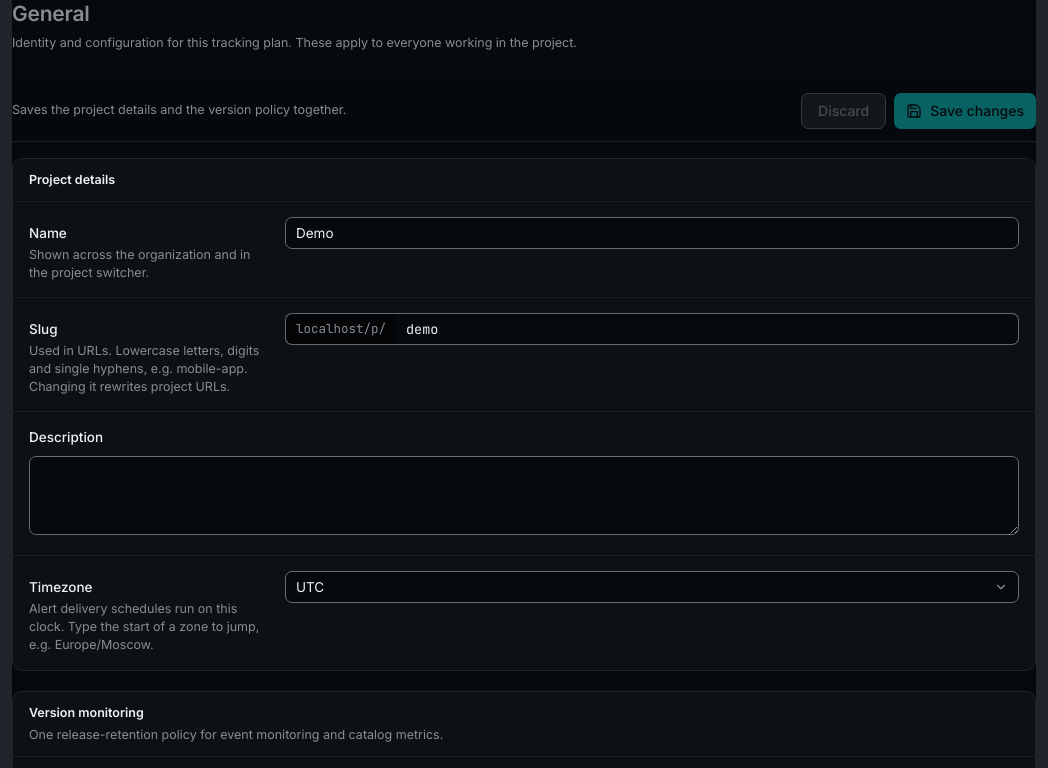
Scenario: ProjectGeneralSection › marks a bad slug and a bad release count as errors, and says the form is edited
Step 1. Replace the text in the field labelled "Slug" with "Bad Slug" → x=708, y=329, box [396, 313, 1019, 345]
(page scrolled)
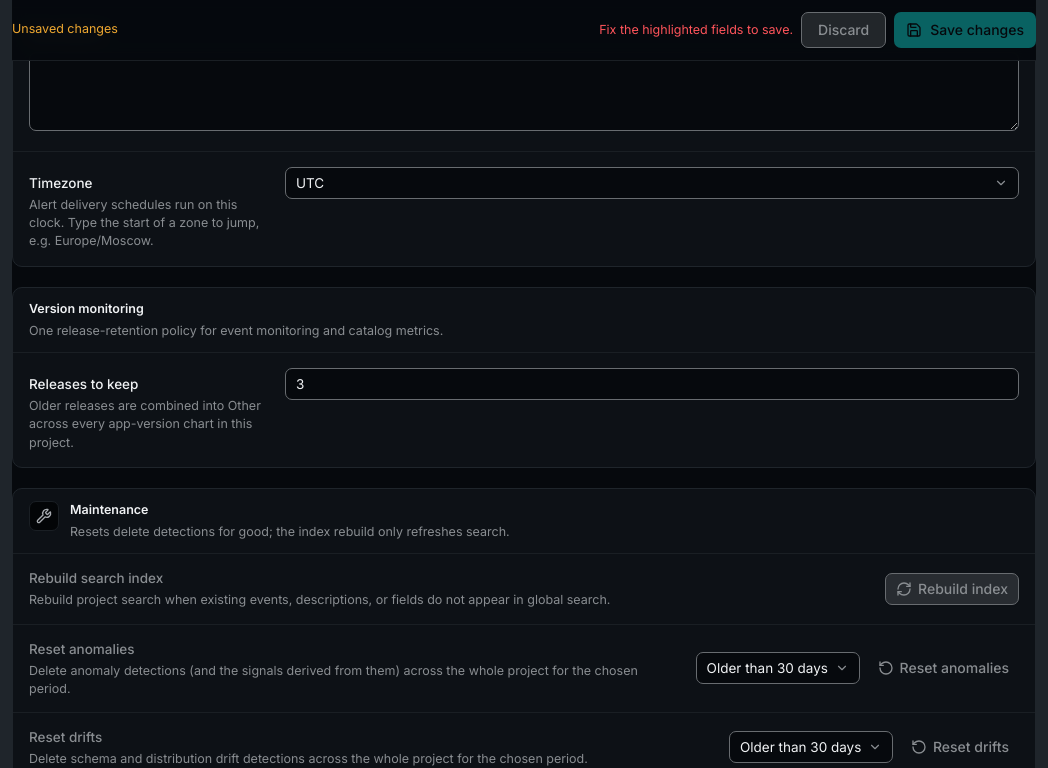
expect the text "Unsaved changes" is shown: met, box [12, 22, 118, 37]
Step 2. Replace the text in the number field labelled "Releases to keep" with "0" → x=652, y=384, box [285, 368, 1019, 400]
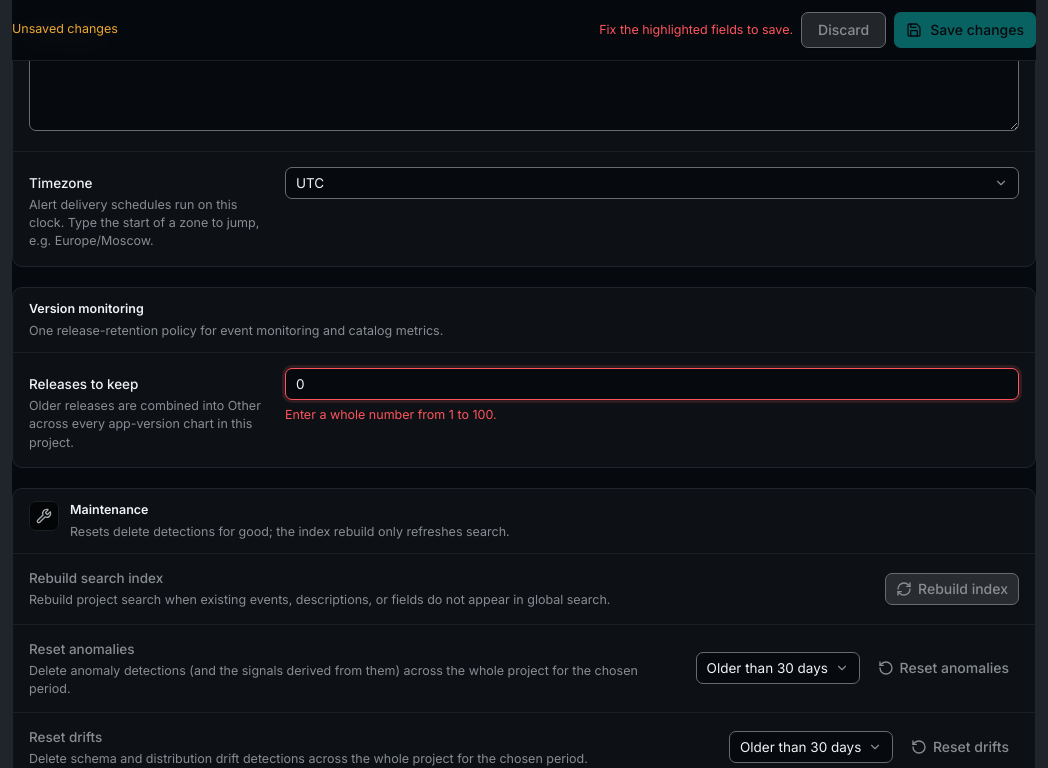
expect the button "Save changes" is disabled: met, box [894, 12, 1036, 48]
expect the text "Enter a whole number from 1 to 100." is shown: met, box [285, 407, 497, 422]
